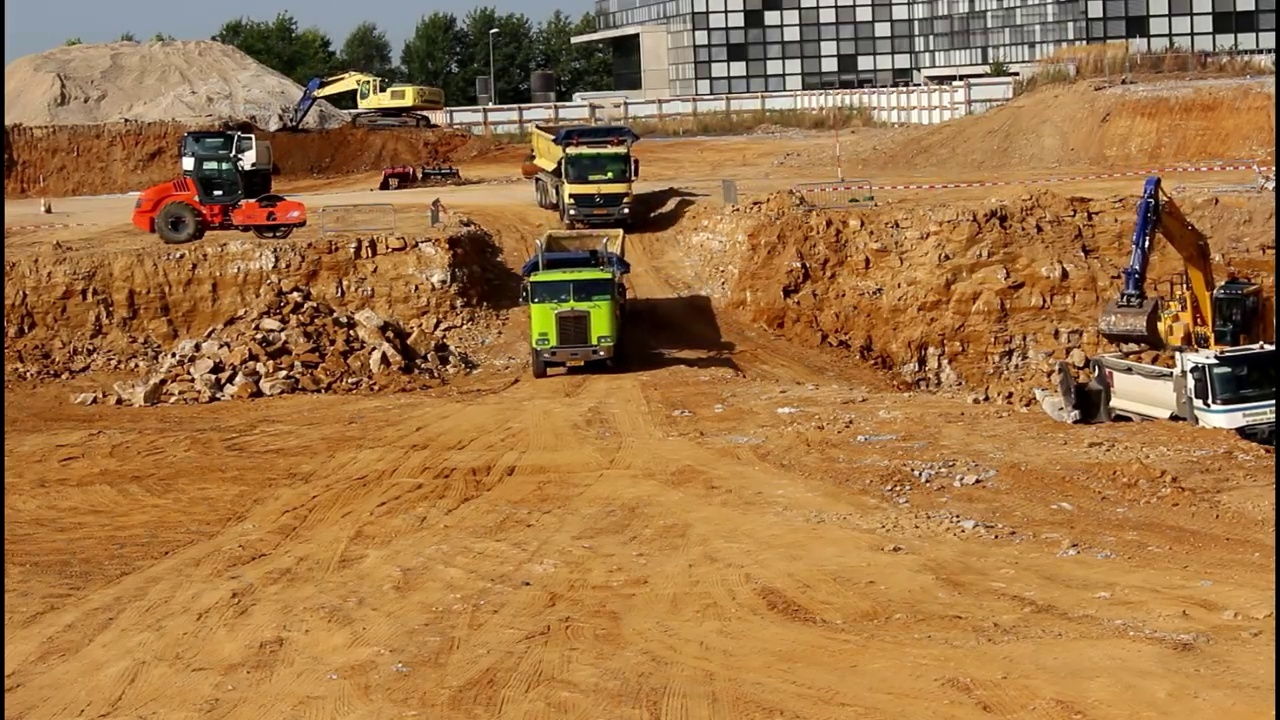compactor: (131, 150, 307, 244)
excavator: (1091, 169, 1280, 405), (267, 69, 450, 138)
truck: (1091, 337, 1280, 464), (519, 224, 634, 381), (527, 117, 644, 228), (174, 120, 278, 210)
